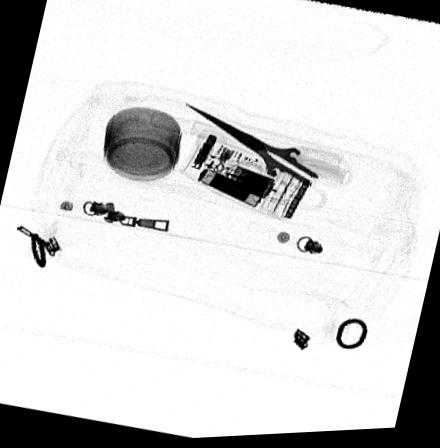Scissors: (181, 103, 353, 215)
